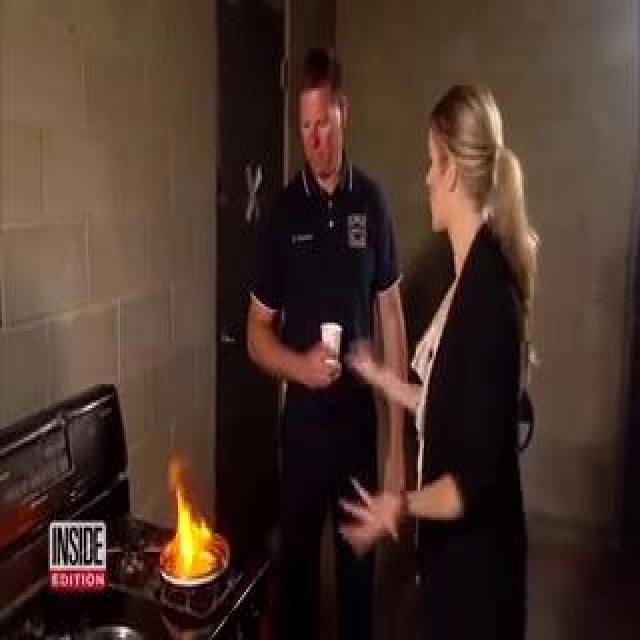Fire: (66, 130, 190, 520)
